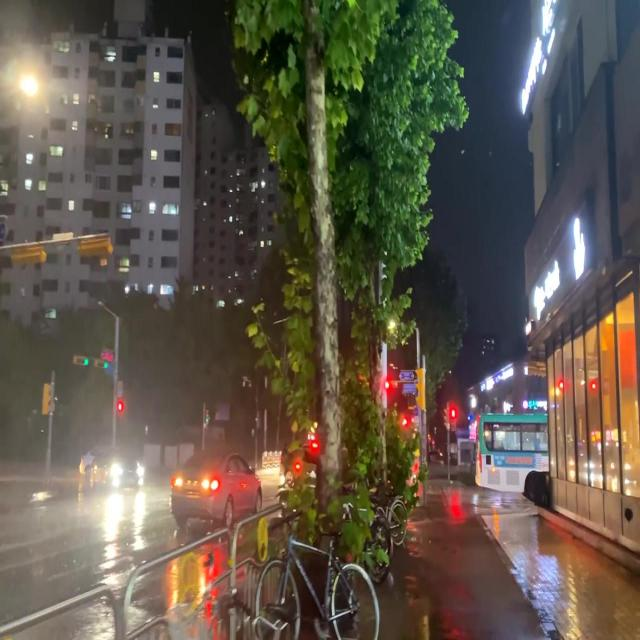Car: (171, 457, 266, 530), (90, 447, 143, 492)
